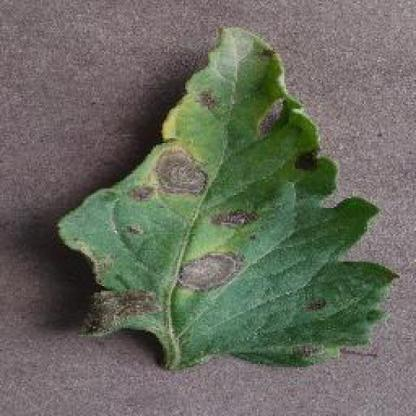Tomato_Blight: (58, 28, 399, 372)
